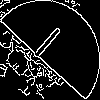I: (25, 25, 64, 68)
